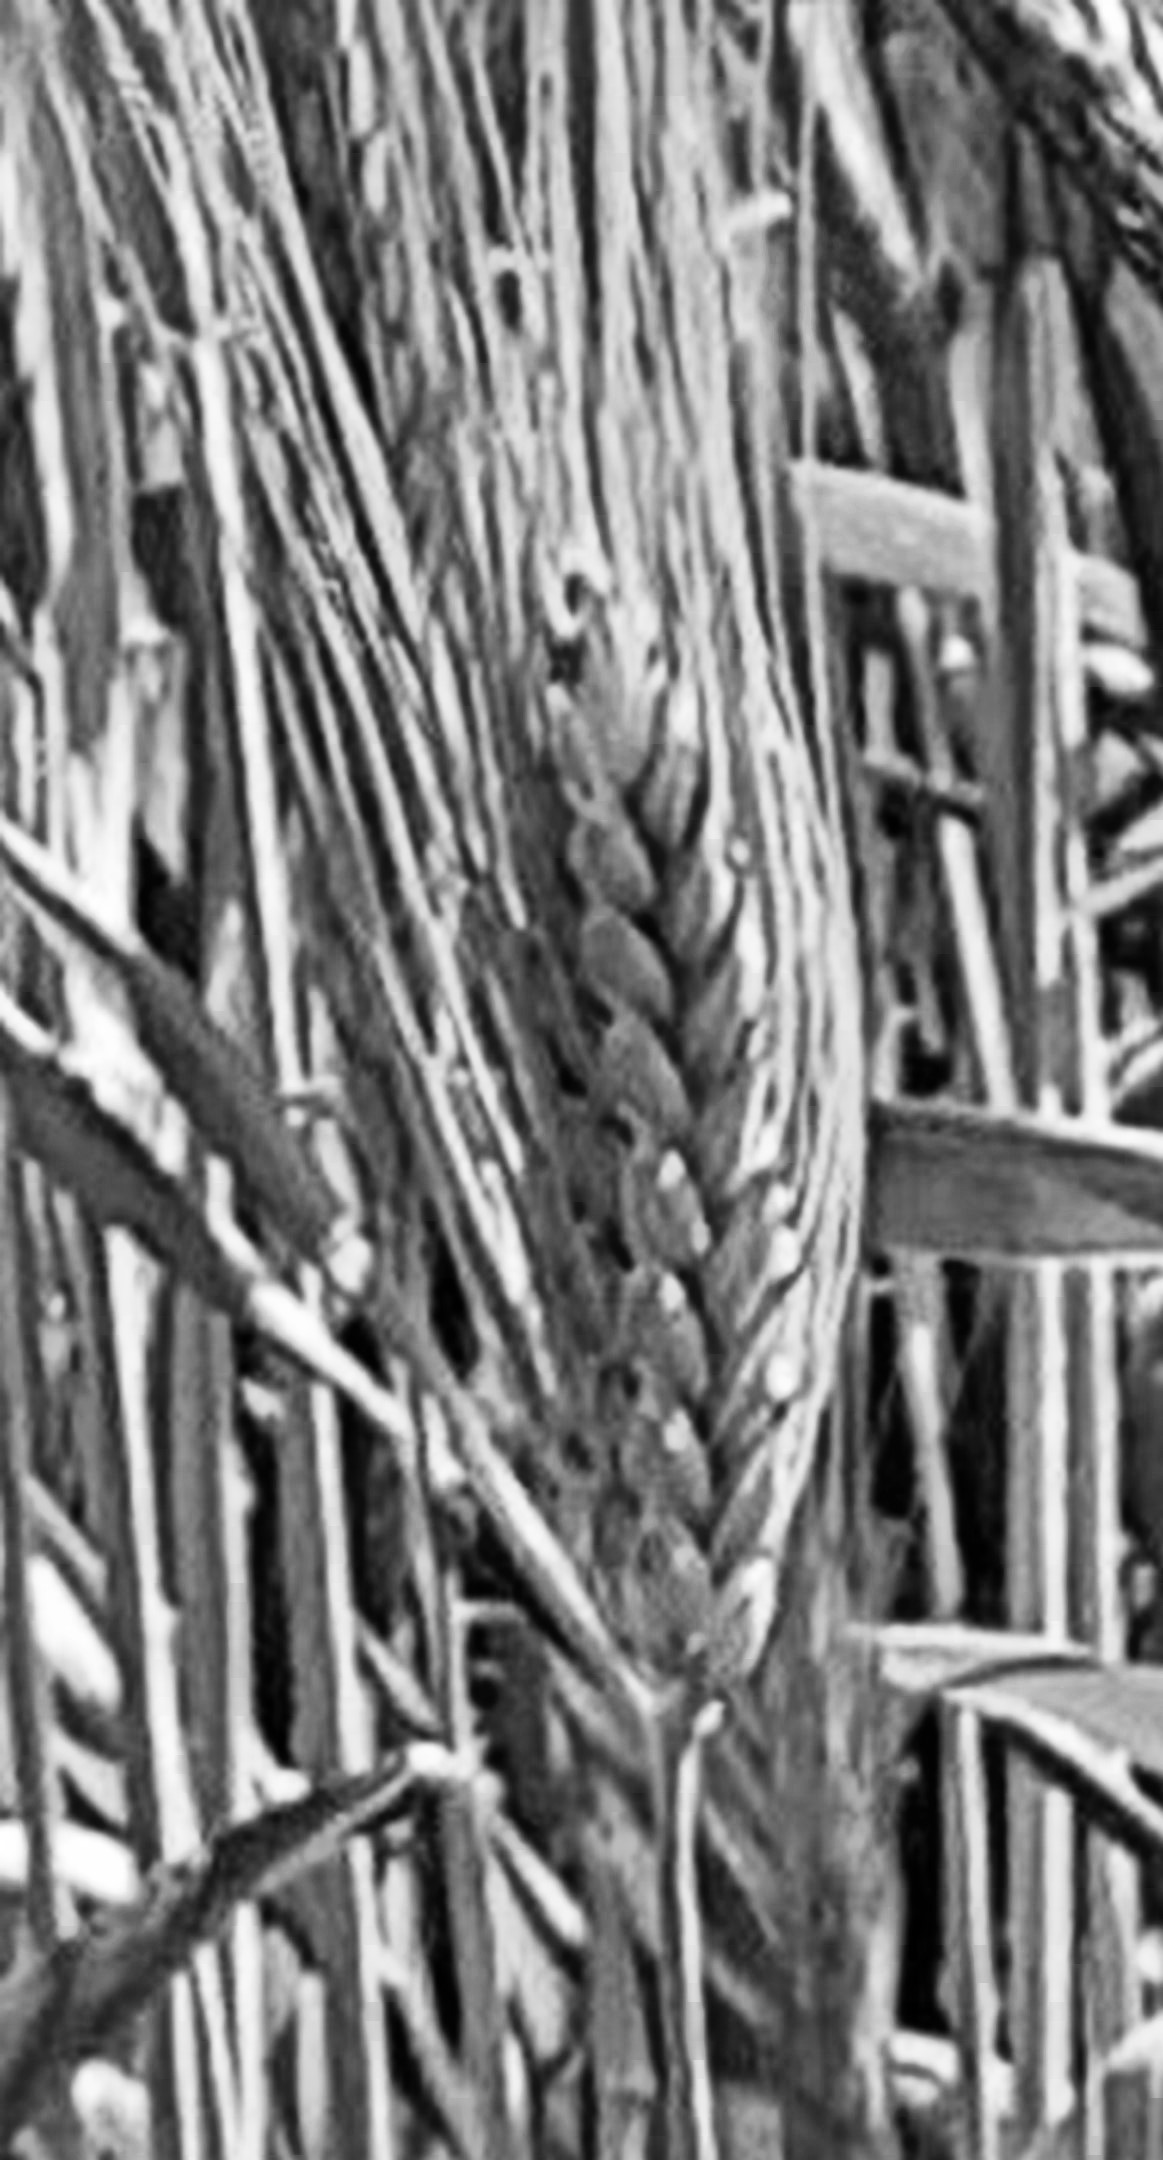Healthy Wheat: (517, 647, 868, 1688)
